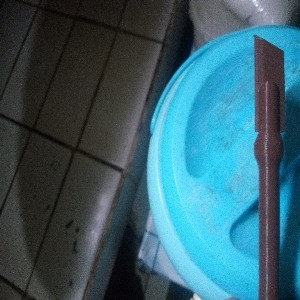cutter: (252, 32, 288, 300)
